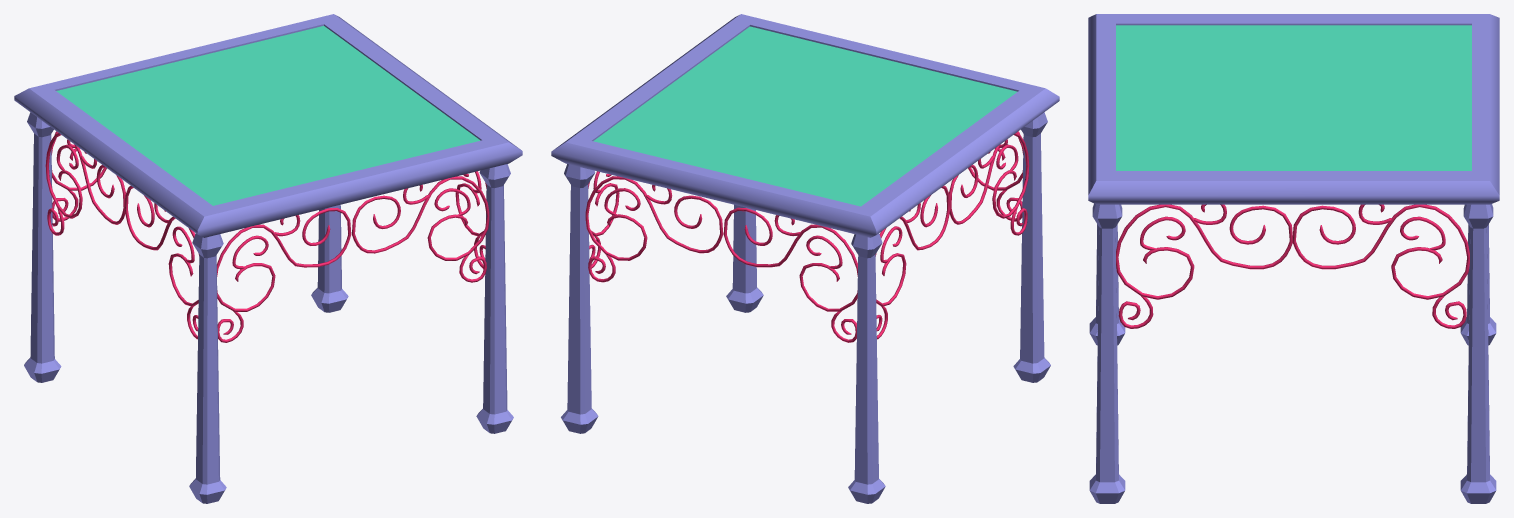
The model's file is nightstand.FBX.
The picture shows the model from 3 angles, left to right: view 1: azimuth 30°, elevation 25°; view 2: azimuth 150°, elevation 25°; view 3: azimuth 270°, elevation 25°; orthographic projection. The views are drawn at different scales.
Visible parts, largest first — view 1: nightstand; view 2: nightstand; view 3: nightstand.
Boxes of the visible parts, bbox=[...] form: nightstand: bbox=[14, 14, 522, 503]; nightstand: bbox=[551, 14, 1059, 503]; nightstand: bbox=[1088, 14, 1499, 503].
Size of the model in its own units: 1.1 by 0.9302 by 1.07.
